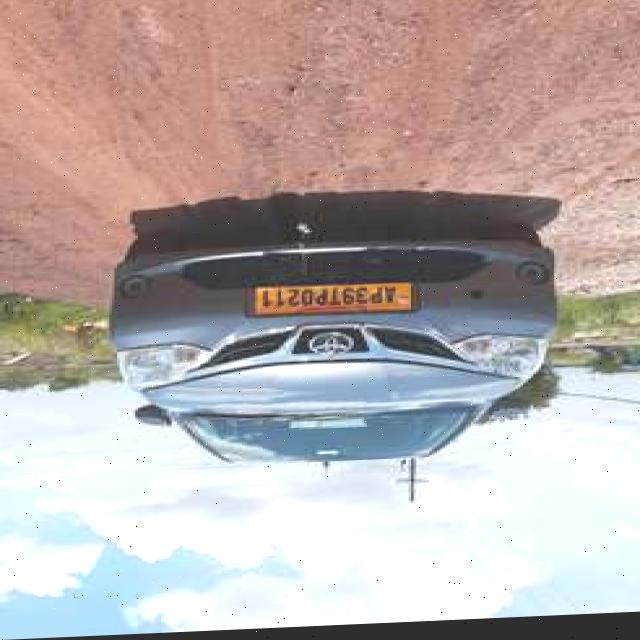plate: (252, 284, 414, 320)
